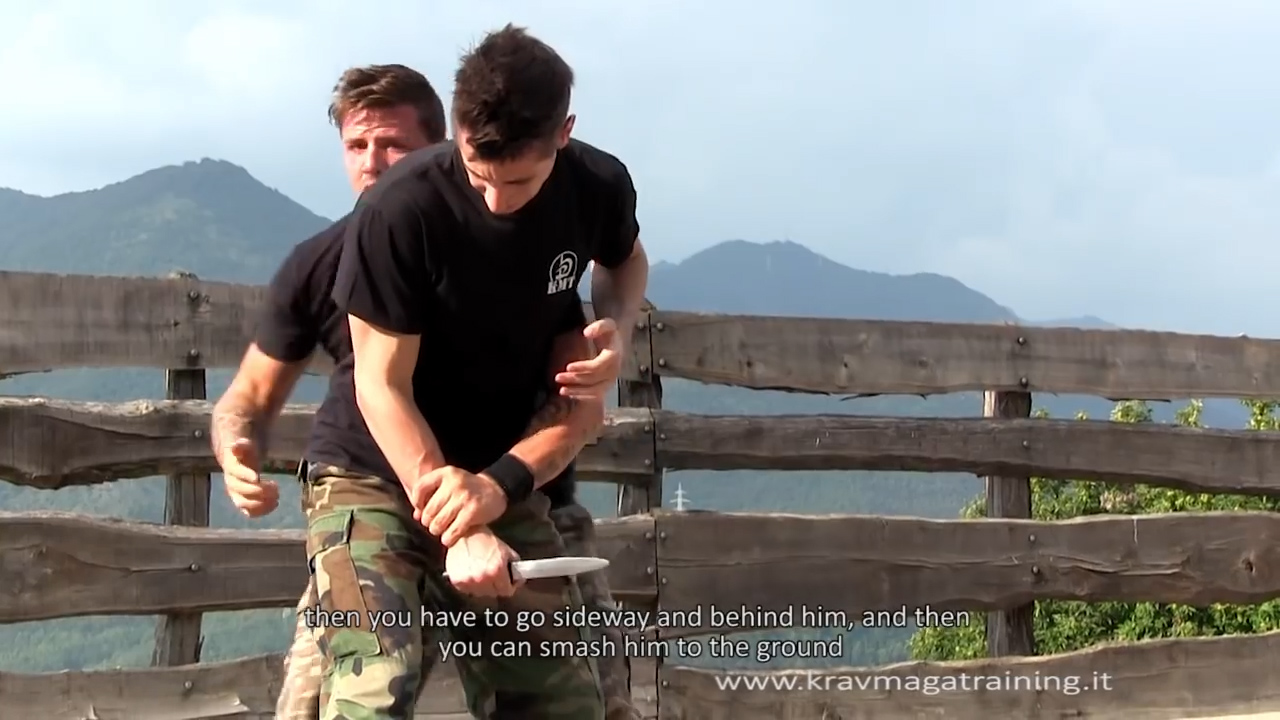knife: (438, 527, 627, 607)
